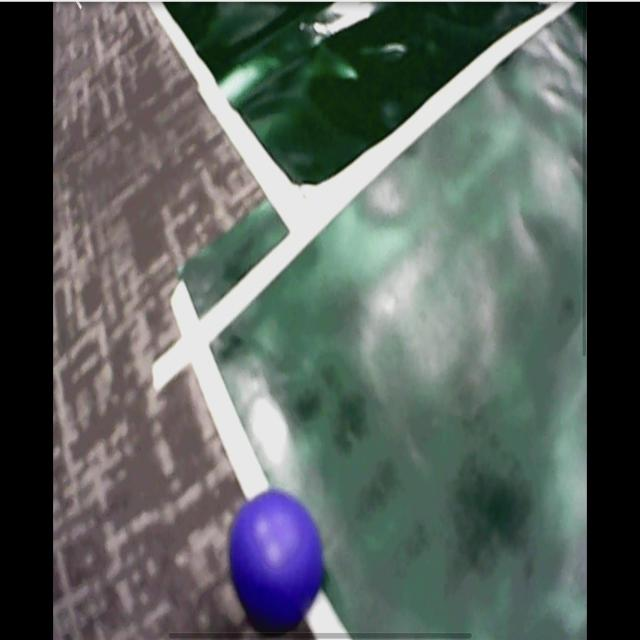ball: (230, 491, 323, 629)
